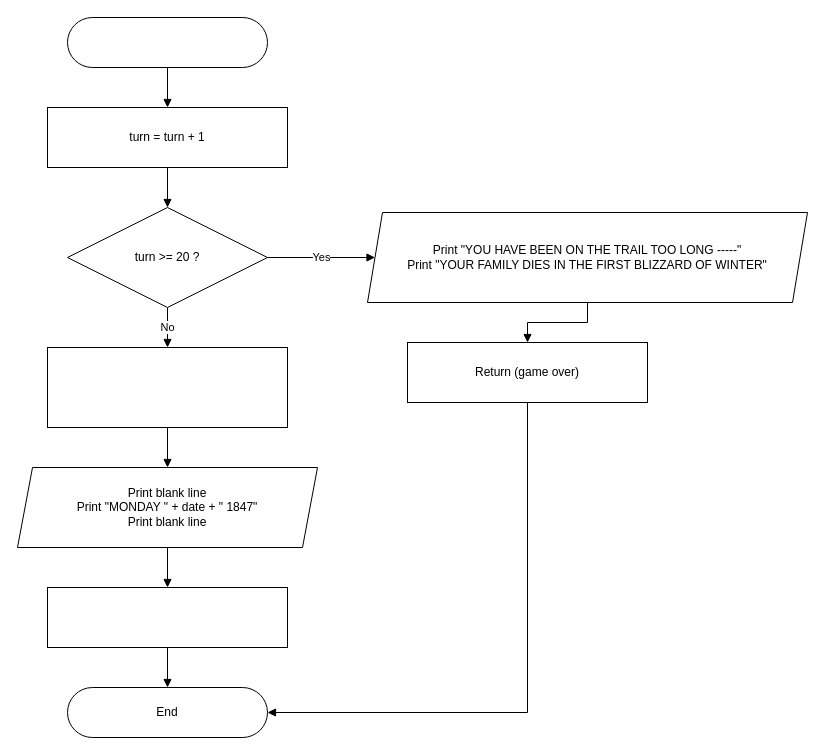
The diagram is 825 pixels wide and 755 high, and some of its shapes have lost their labels. The centre of each missing label's shape, as x and y in pixels:
date = DATES[turn - 1] (table of 19 dates, April 12th - December 20th): [167,387]
Return Ok: [167,617]
Start: [167,42]
